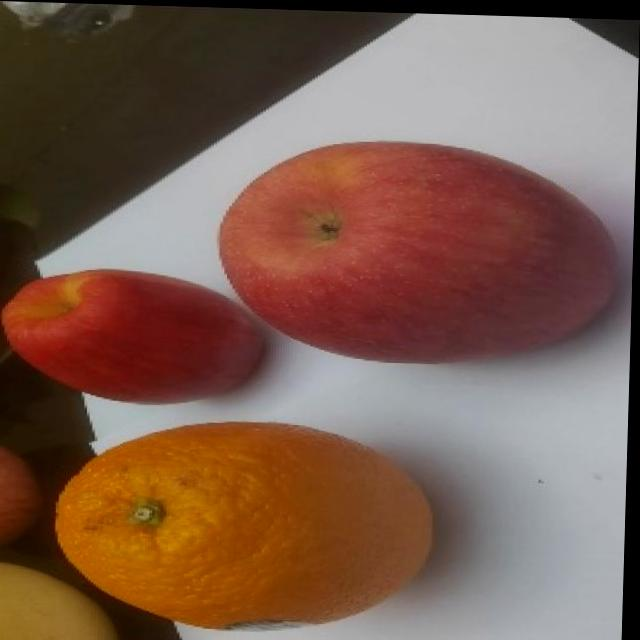Apple: (215, 136, 622, 369), (0, 263, 263, 406), (0, 438, 48, 546)
Orange: (54, 407, 443, 640)
